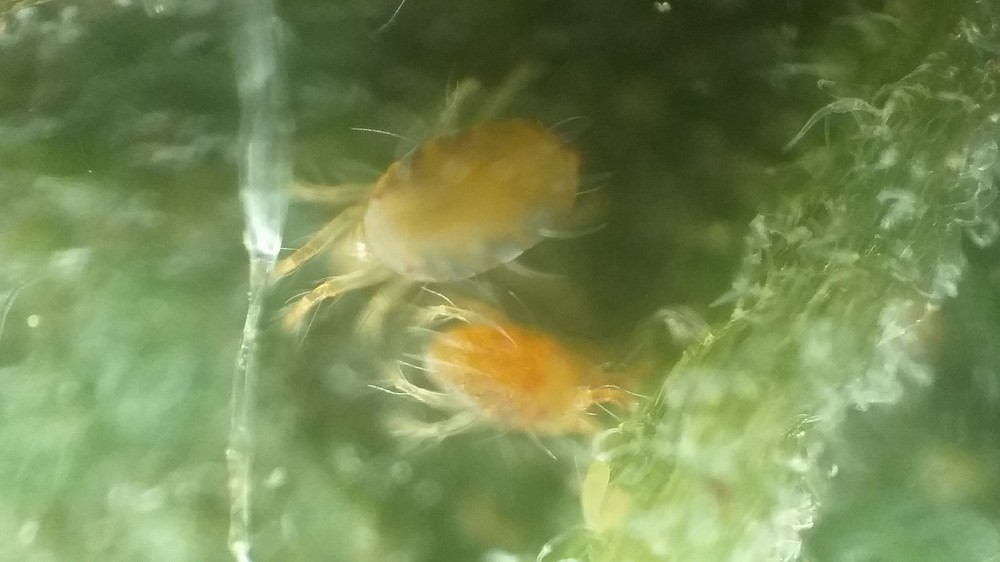Aracnido Rojo: (239, 78, 678, 339), (399, 290, 705, 466)
